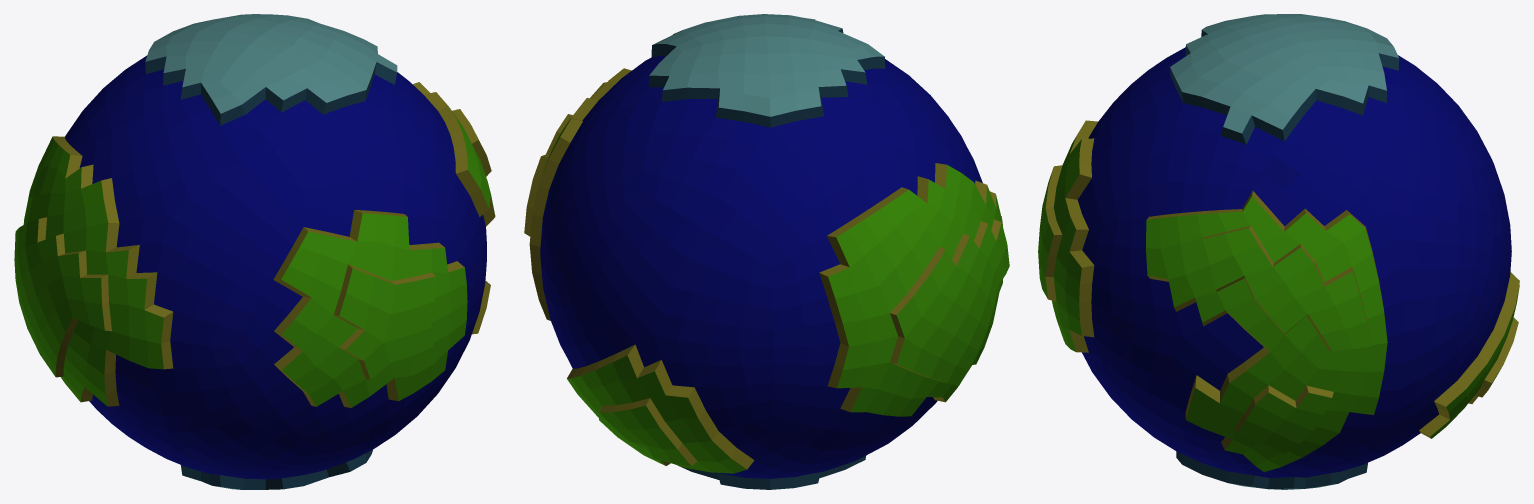
The model's file is Planet.fbx.
3 views of the same model, side by side, from view 1: azimuth 30°, elevation 25°; view 2: azimuth 150°, elevation 25°; view 3: azimuth 270°, elevation 25° (orthographic).
Visible parts, largest first — view 1: Planet; view 2: Planet; view 3: Planet.
Part boxes in pixels (box(x1,y1,x2,y2)): Planet: box(14, 14, 495, 489); Planet: box(524, 14, 1009, 489); Planet: box(1038, 14, 1519, 489).
Size of the model in its own units: 21.62 by 21 by 21.21.
